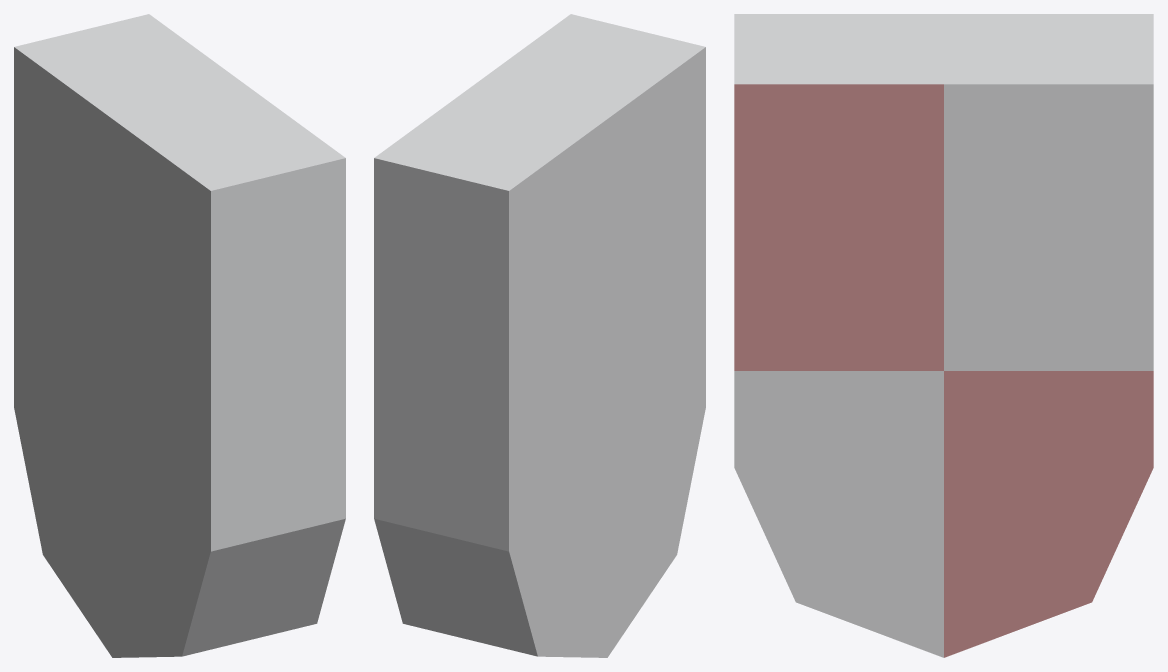
File: Shield_Red_01.glb
3 views of the same model, side by side, from view 1: azimuth 30°, elevation 25°; view 2: azimuth 150°, elevation 25°; view 3: azimuth 270°, elevation 25° (orthographic). The views are drawn at different scales.
Visible parts, largest first — view 1: Mesh1 Shield_Red Model; view 2: Mesh1 Shield_Red Model; view 3: Mesh1 Shield_Red Model.
Part boxes in pixels (x1,y1,x2,y2): Mesh1 Shield_Red Model: (14, 14, 345, 657); Mesh1 Shield_Red Model: (374, 14, 705, 657); Mesh1 Shield_Red Model: (734, 14, 1153, 657).
Bounding box in the file's own units: 0.2 × 0.7625 × 0.5047.
